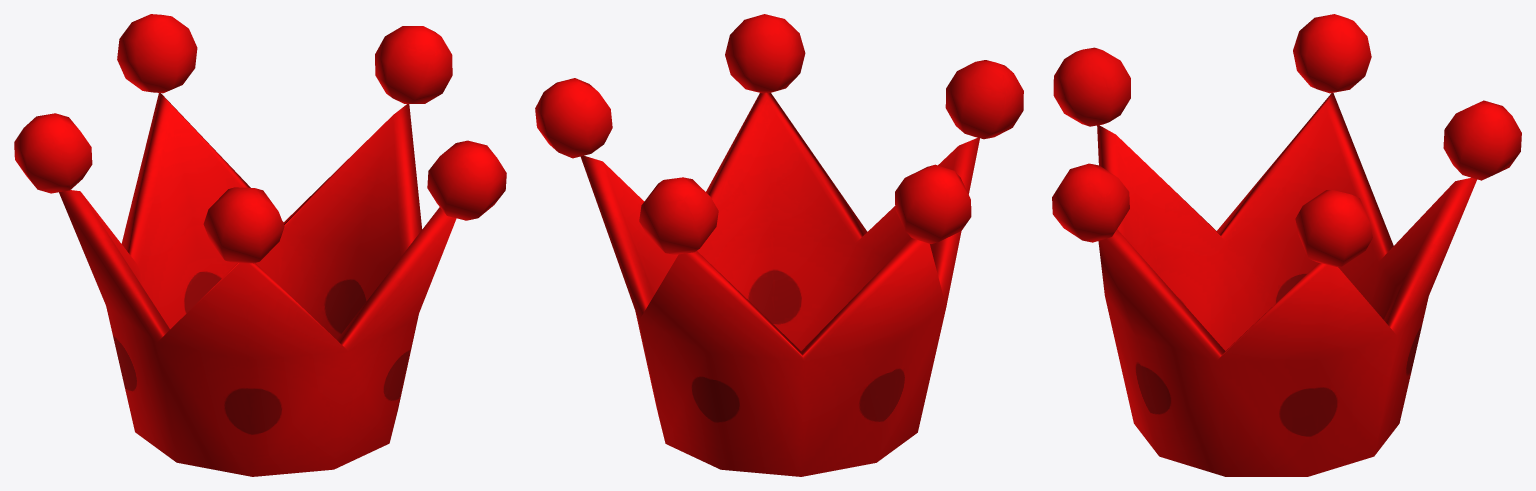
The model's file is M_CrownC.glb.
The picture shows the model from 3 angles, left to right: view 1: azimuth 30°, elevation 25°; view 2: azimuth 150°, elevation 25°; view 3: azimuth 270°, elevation 25°; orthographic projection.
Parts seen in each view (by area): view 1: SM_Crown; view 2: SM_Crown; view 3: SM_Crown.
Boxes of the visible parts, bbox=[...] form: SM_Crown: bbox=[14, 14, 506, 476]; SM_Crown: bbox=[535, 14, 1023, 476]; SM_Crown: bbox=[1052, 14, 1521, 476].
Bounding box in the file's own units: 0.4276 × 0.3085 × 0.4125.
1 material, 1 textured.
